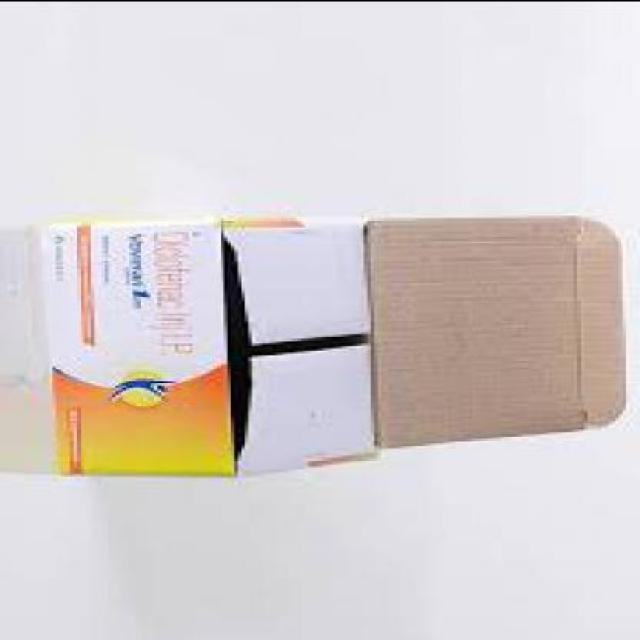CARDBOARD: (45, 210, 626, 475)
